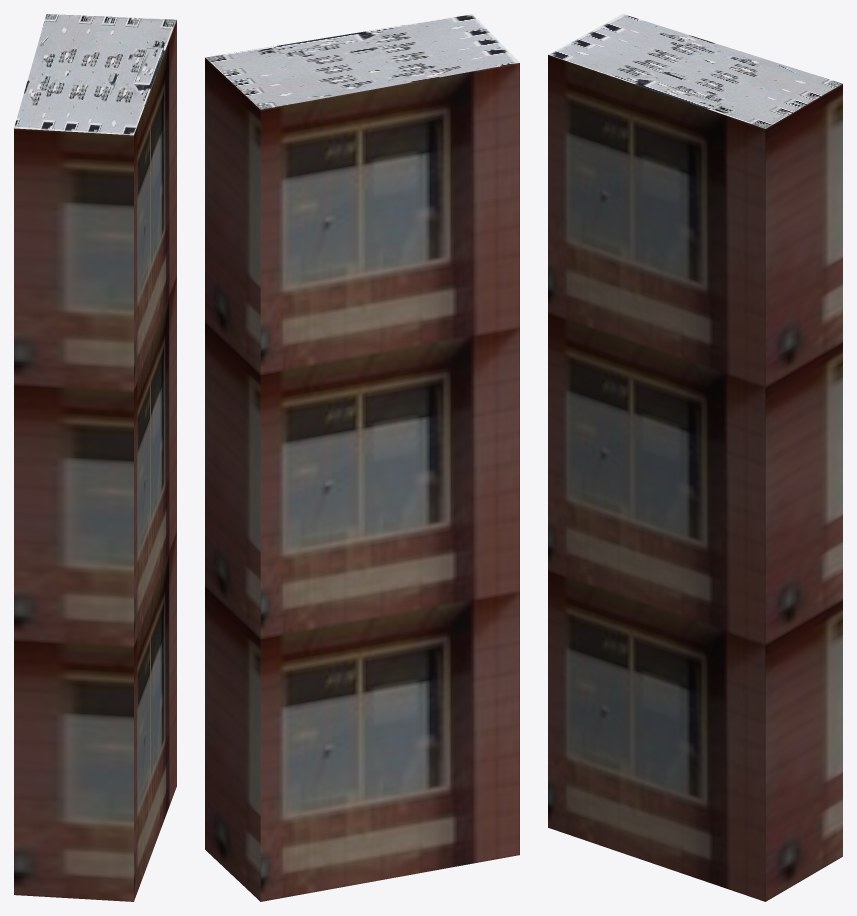
File: ResTex__5299.fbx
The picture shows the model from 3 angles, left to right: view 1: azimuth 30°, elevation 25°; view 2: azimuth 150°, elevation 25°; view 3: azimuth 270°, elevation 25°; orthographic projection. The views are drawn at different scales.
Visible parts, largest first — view 1: CityEngineMaterial_13_m, CityEngineMaterial_m; view 2: CityEngineMaterial_13_m, CityEngineMaterial_m; view 3: CityEngineMaterial_13_m, CityEngineMaterial_m.
Part boxes in pixels (x1=…): CityEngineMaterial_13_m: x1=14, y1=20, x2=176, y2=901; CityEngineMaterial_m: x1=14, y1=14, x2=176, y2=135; CityEngineMaterial_13_m: x1=205, y1=58, x2=519, y2=901; CityEngineMaterial_m: x1=205, y1=14, x2=519, y2=109; CityEngineMaterial_13_m: x1=548, y1=55, x2=842, y2=901; CityEngineMaterial_m: x1=548, y1=14, x2=842, y2=128.
Bounding box in the file's own units: 2.87 × 9 × 3.11.
Materials: 2 (2 with a texture image).
